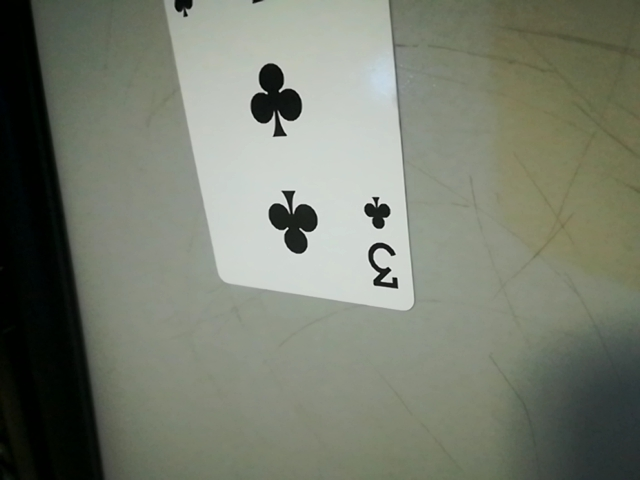mh 3: (355, 189, 413, 304)
